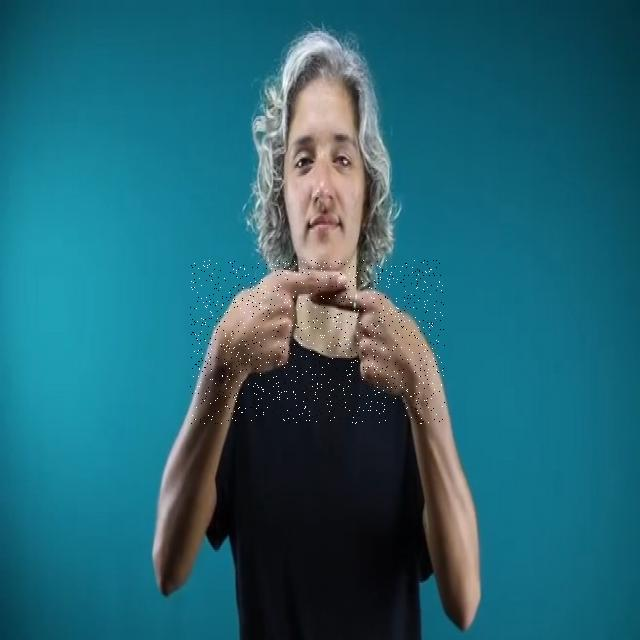allergy: (190, 260, 445, 424)
